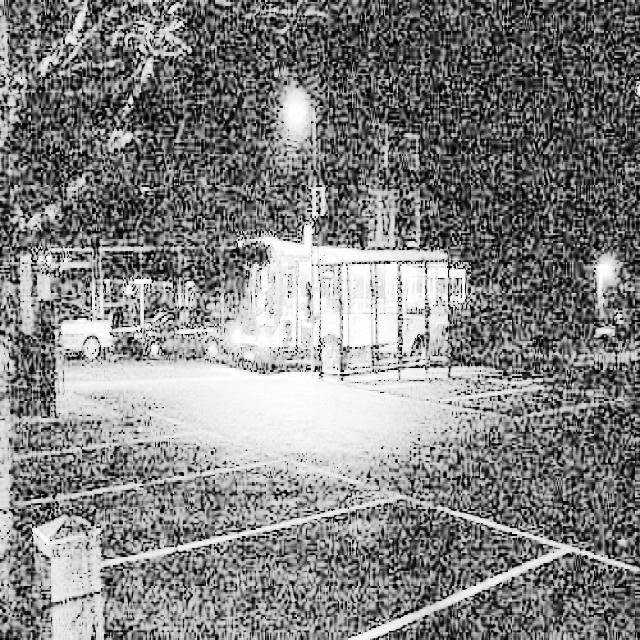Bus: (231, 207, 485, 390)
Car: (126, 275, 231, 365), (41, 279, 124, 365)
